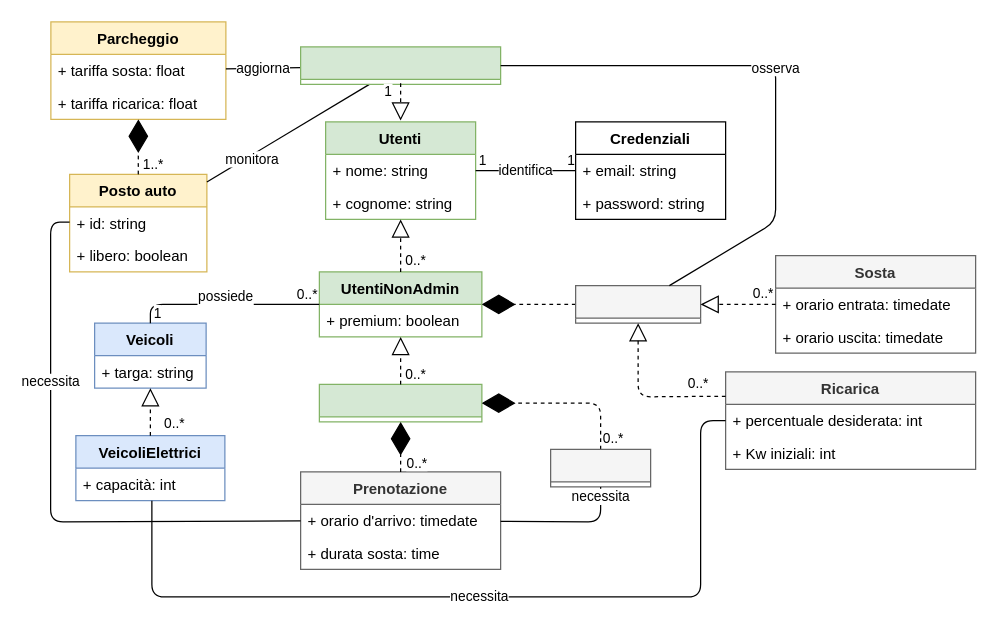
The diagram is 998 pixels wide and 626 high, and some of its shapes have lost their labels. Here are the shapes that lost their labels. From the top down, the centre of each, then its label:
(400,65): Amministratore
(637,303): Pagamenti
(400,402): Utenti premium
(600,467): Multa
